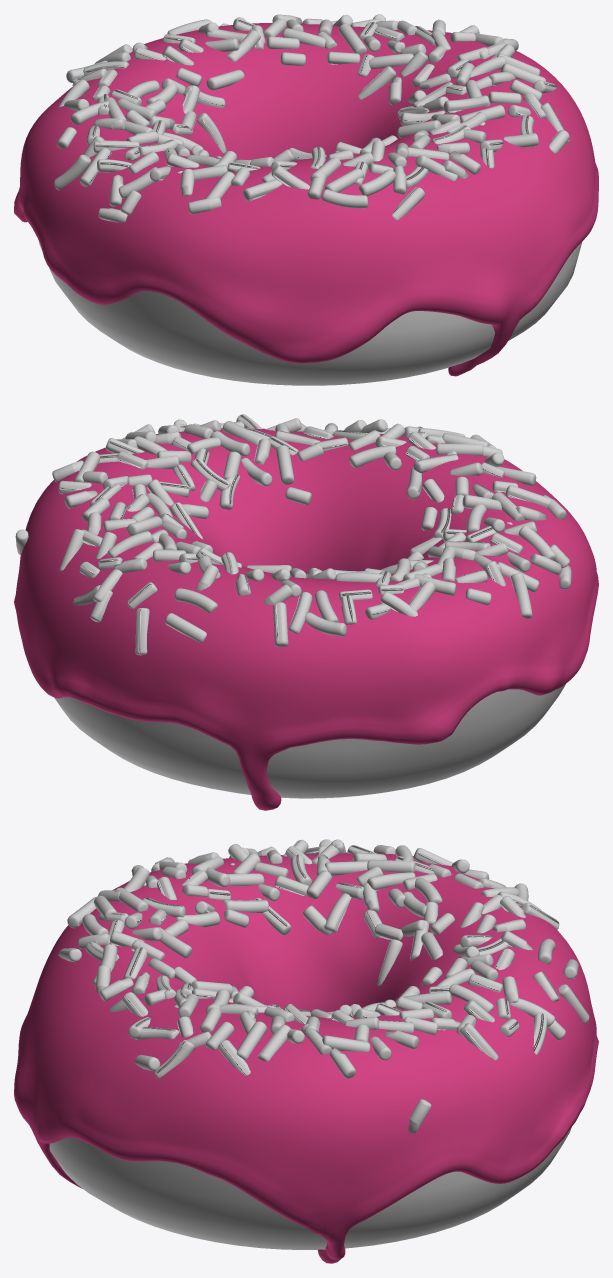
The model's file is donut.obj.
3 views of the same model, one above another, from view 1: azimuth 30°, elevation 25°; view 2: azimuth 150°, elevation 25°; view 3: azimuth 270°, elevation 25° (orthographic). The views are drawn at different scales.
Parts seen in each view (by area): view 1: Icing, Donut, Cylinder.006, Cylinder.005, Cylinder.003, Cylinder.002, Cylinder.001; view 2: Icing, Donut, Cylinder.006, Cylinder.005, Cylinder.002, Cylinder.003, Cylinder.001; view 3: Icing, Donut, Cylinder.006, Cylinder.003, Cylinder.005, Cylinder.002, Cylinder.001.
Part boxes in pixels (x1,y1,x2,y2): Icing: [14, 23, 598, 376]; Donut: [39, 241, 582, 385]; Cylinder.006: [54, 19, 569, 208]; Cylinder.005: [64, 14, 557, 220]; Cylinder.003: [97, 14, 569, 199]; Cylinder.002: [77, 14, 546, 222]; Cylinder.001: [57, 18, 530, 215]; Icing: [14, 428, 598, 810]; Donut: [54, 684, 565, 798]; Cylinder.006: [73, 414, 556, 636]; Cylinder.005: [59, 418, 551, 655]; Cylinder.002: [15, 420, 571, 624]; Cylinder.003: [58, 423, 537, 609]; Cylinder.001: [79, 420, 569, 619]; Icing: [14, 852, 598, 1263]; Donut: [49, 1127, 571, 1249]; Cylinder.006: [67, 839, 555, 1078]; Cylinder.003: [98, 844, 559, 1071]; Cylinder.005: [58, 843, 589, 1075]; Cylinder.002: [78, 839, 565, 1133]; Cylinder.001: [108, 845, 519, 1041].
Bounding box in the file's own units: 0.1316 × 0.0584 × 0.1244.
